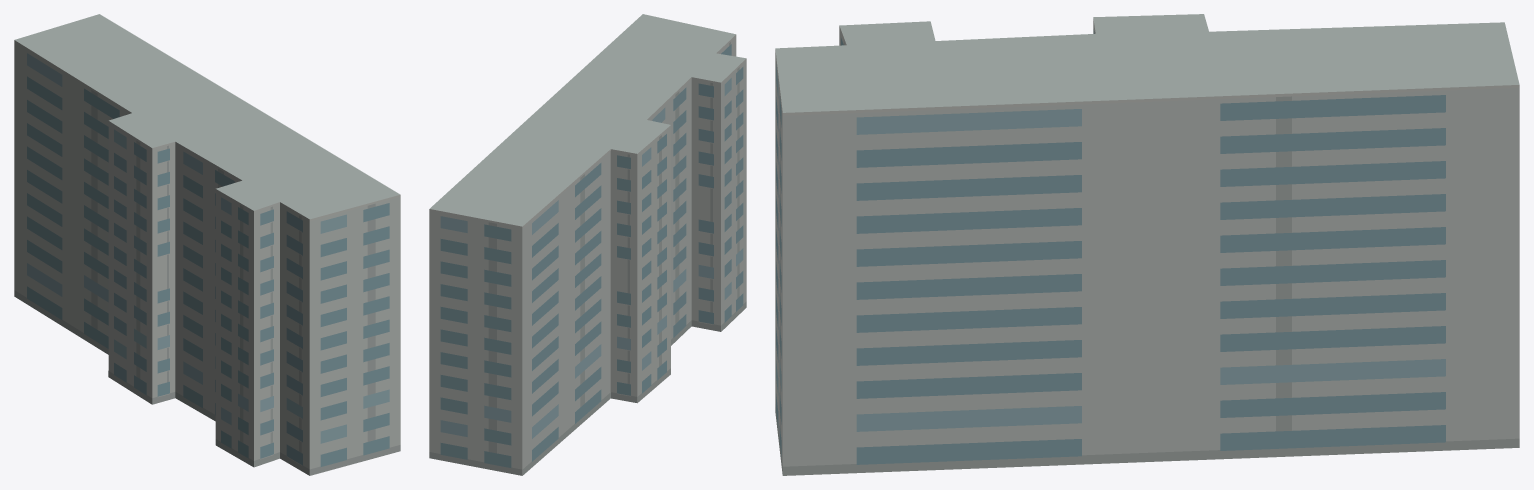
File: residential-420c018a-a1d3-4234-85d6-3d792c0ab216.glb
3 views of the same model, side by side, from view 1: azimuth 30°, elevation 25°; view 2: azimuth 150°, elevation 25°; view 3: azimuth 270°, elevation 25° (orthographic). The views are drawn at different scales.
Visible parts, largest first — view 1: residential-420c018a-a1d3-4234-85d6-3d792c0ab216.tmp; view 2: residential-420c018a-a1d3-4234-85d6-3d792c0ab216.tmp; view 3: residential-420c018a-a1d3-4234-85d6-3d792c0ab216.tmp.
Boxes of the visible parts, x1=… form: residential-420c018a-a1d3-4234-85d6-3d792c0ab216.tmp: x1=14, y1=14, x2=400, y2=475; residential-420c018a-a1d3-4234-85d6-3d792c0ab216.tmp: x1=429, y1=14, x2=746, y2=475; residential-420c018a-a1d3-4234-85d6-3d792c0ab216.tmp: x1=775, y1=14, x2=1519, y2=475.
Size of the model in its own units: 17.54 by 30 by 55.76.
